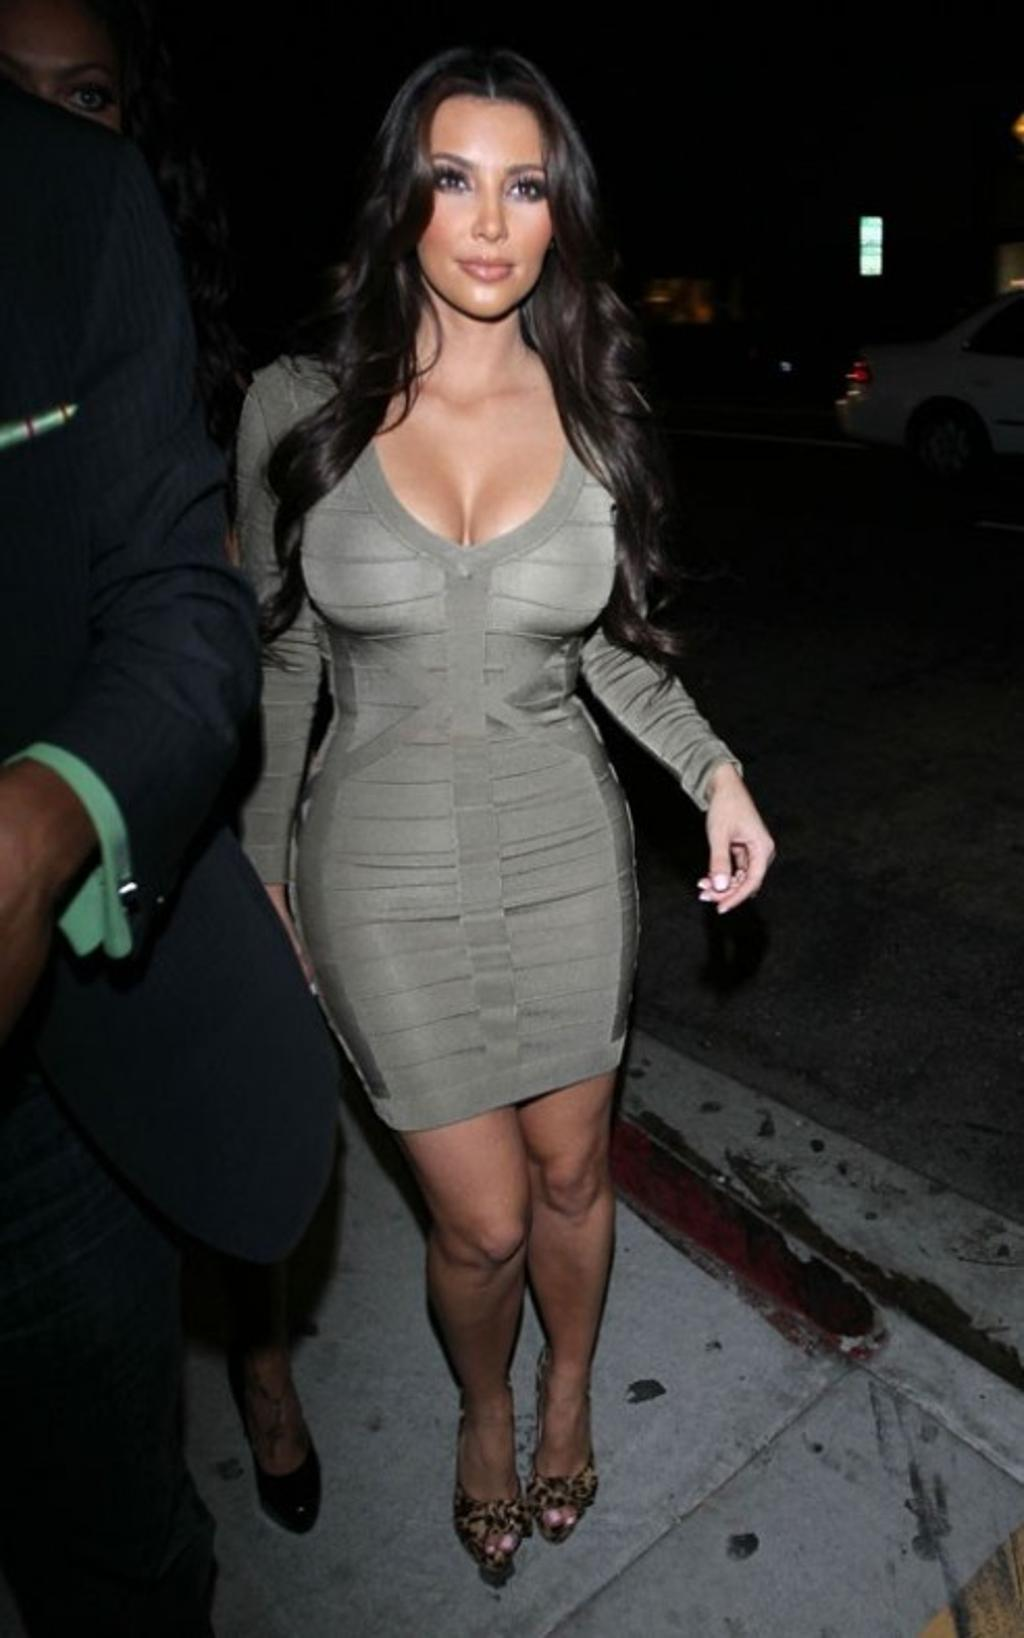face: (416, 93, 560, 317), (6, 10, 118, 192)
